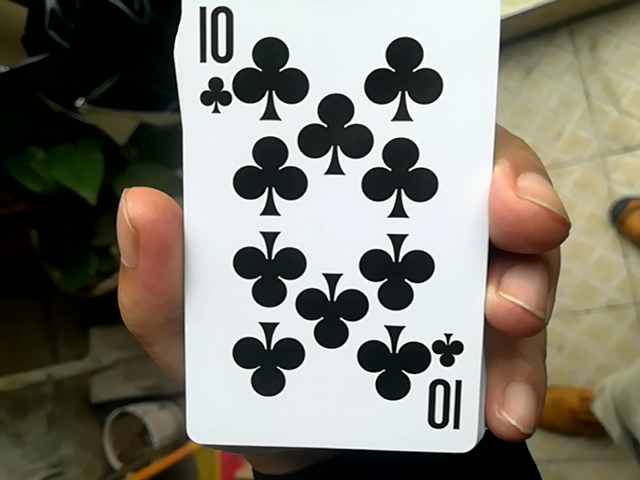mh 10: (169, 0, 488, 443)
